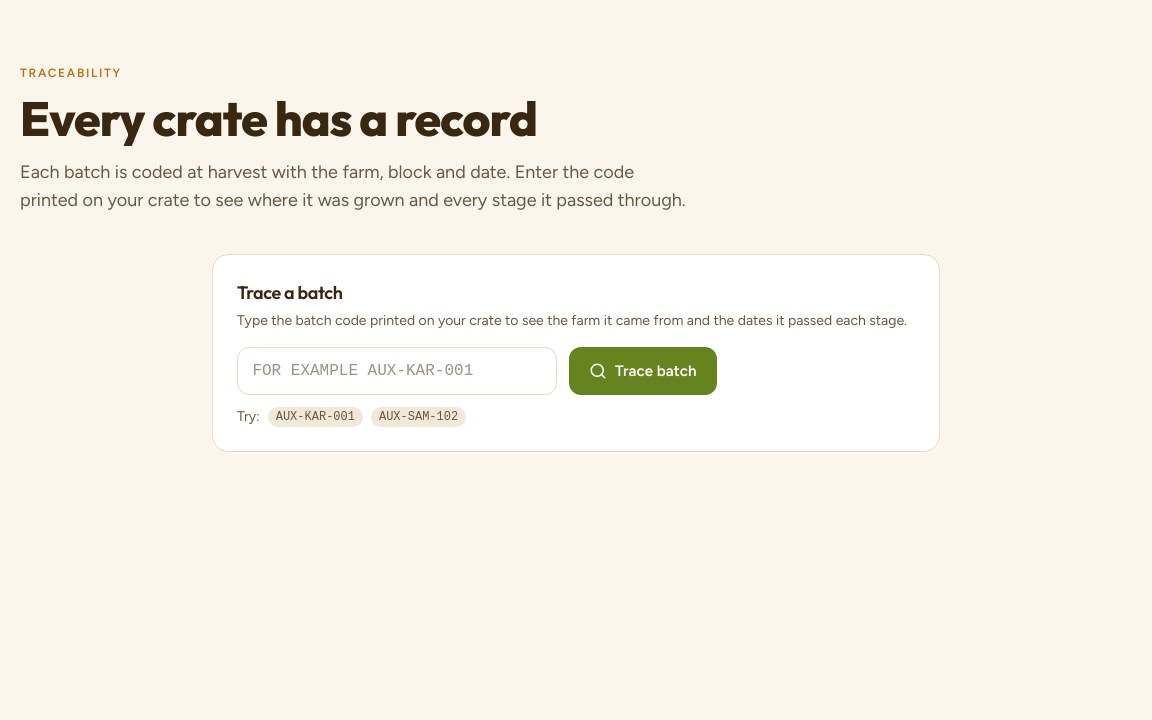
Test: Trace a batch › traces a batch from a typed code, ignoring case, and shows its dated journey
expect the button "AUX-KAR-001" is shown: met, box left=268, top=407, right=363, bottom=427
In the field named "Batch code": (397,371) left=237, top=347, right=557, bottom=395, type "aux-kar-001"
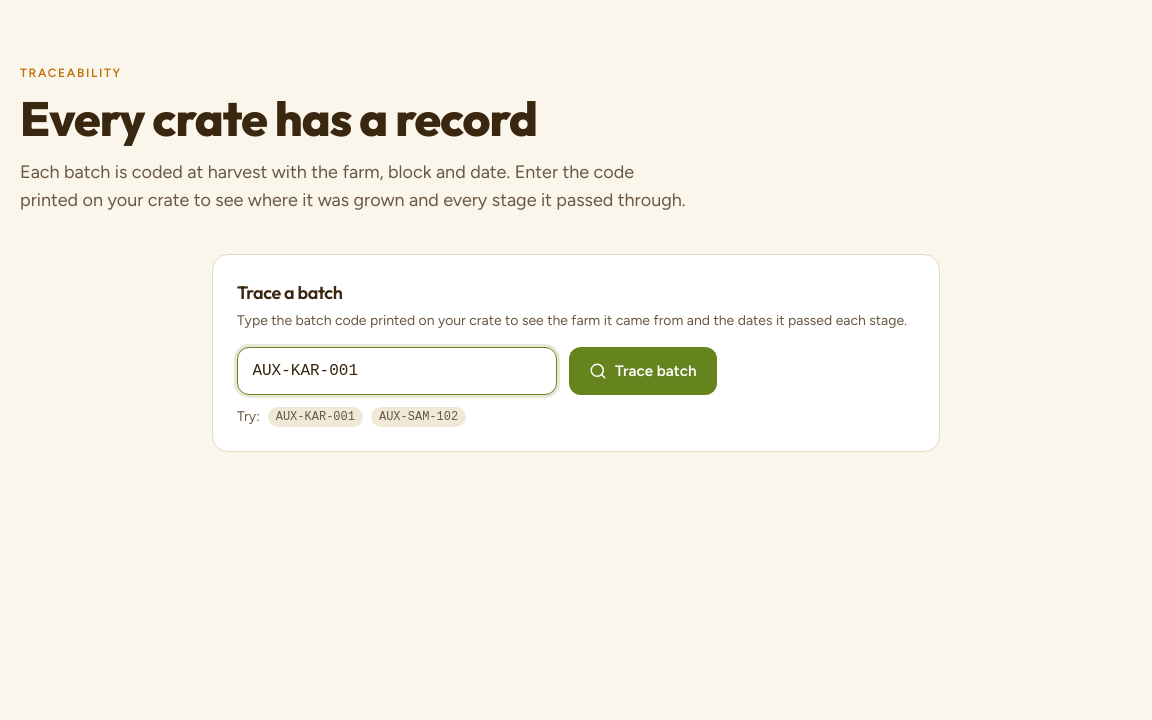
Click the button "Trace batch": (643,371) left=569, top=347, right=716, bottom=395
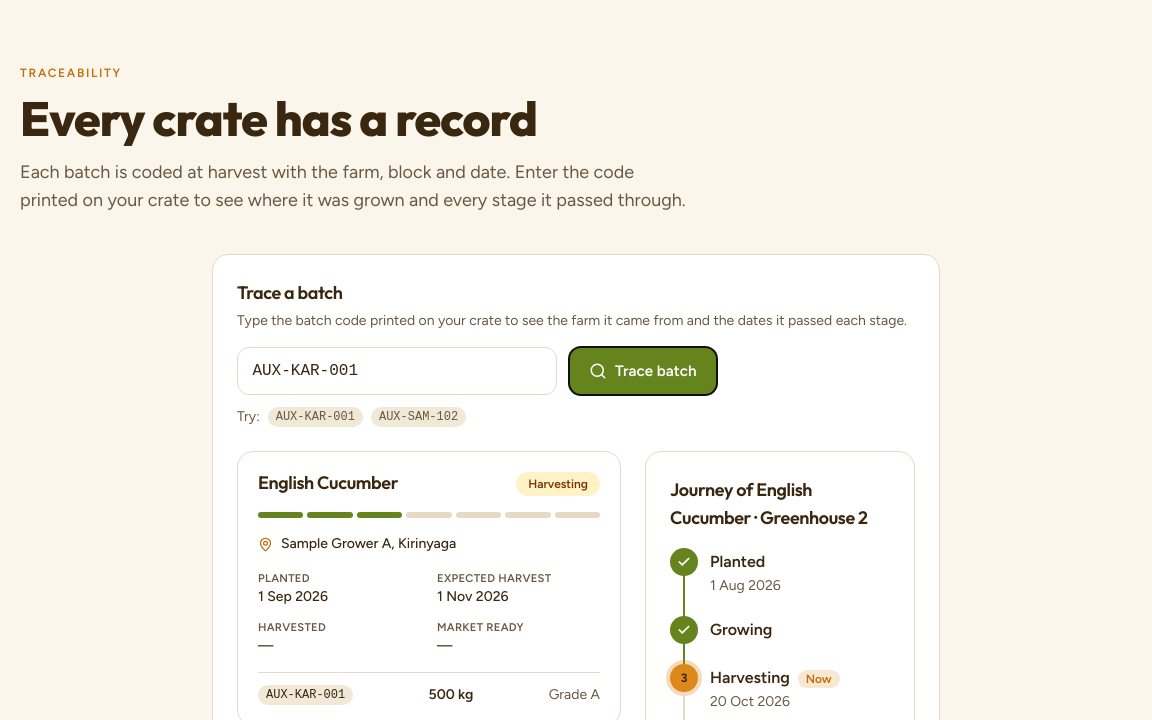
expect the heading "Journey of English Cucumber · Greenhouse 2" is shown: met, box left=670, top=476, right=890, bottom=532
expect the text "1 Aug 2026" is shown: met, box left=710, top=576, right=781, bottom=596
expect the text "20 Oct 2026" is shown: met, box left=710, top=693, right=790, bottom=710
